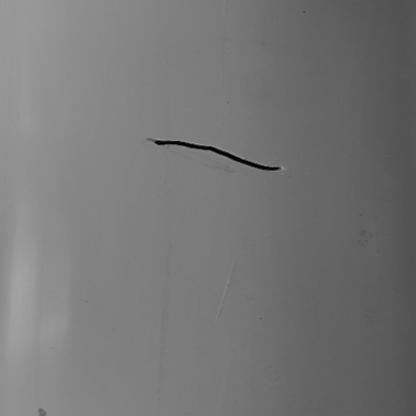fengxi: (145, 133, 283, 173)
